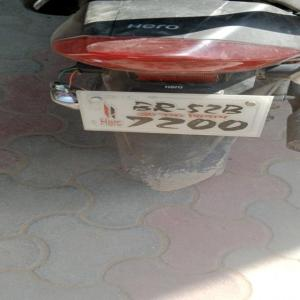Plate: (74, 91, 276, 139)
